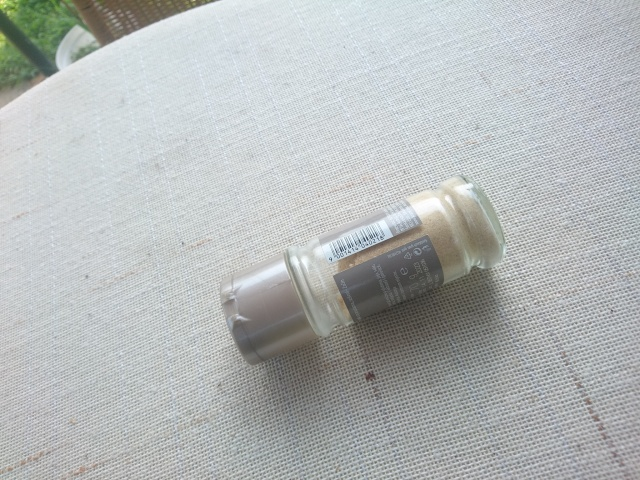Kotanyi Garlic Granules 70g: (214, 172, 510, 368)
